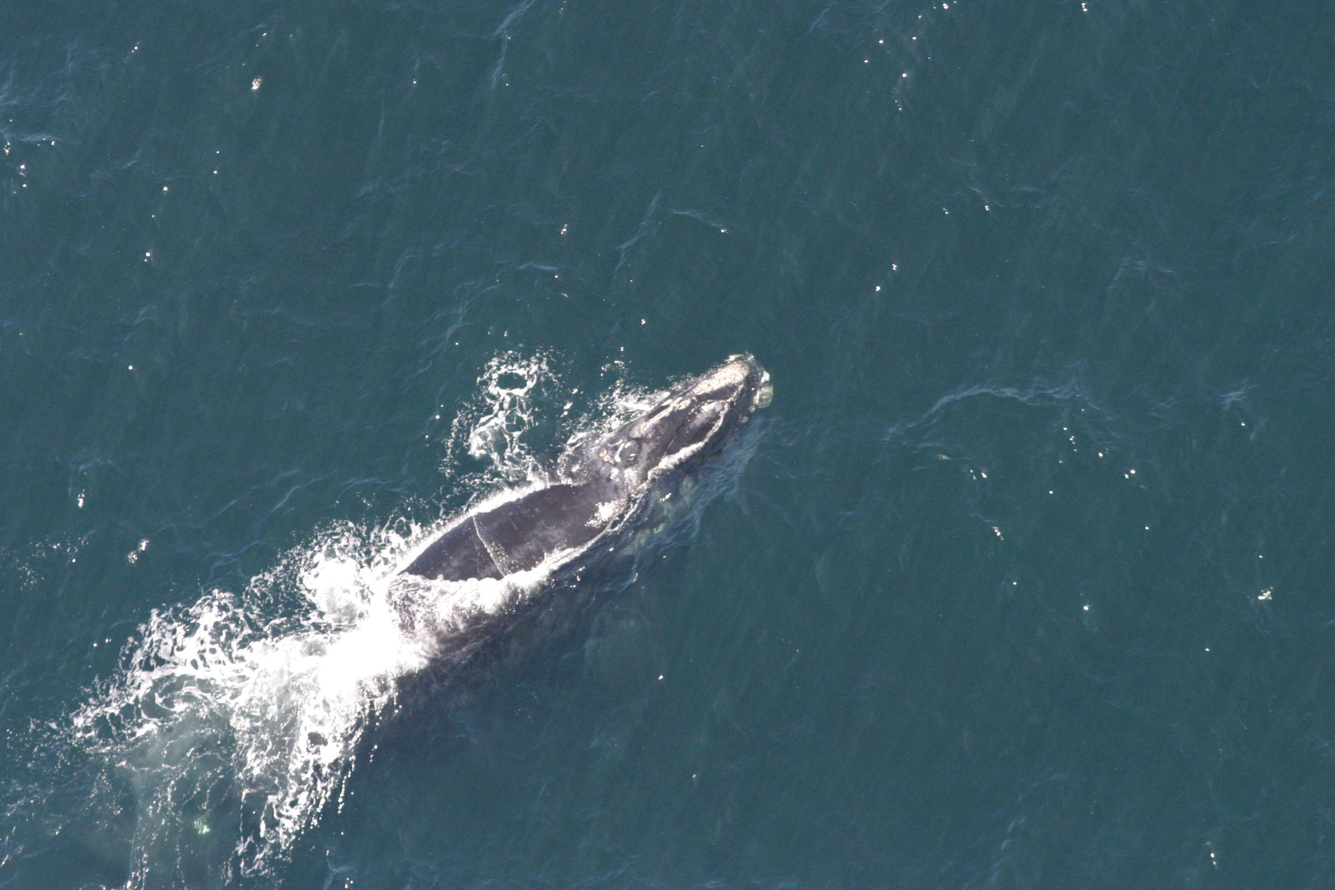whale: (44, 345, 779, 890)
